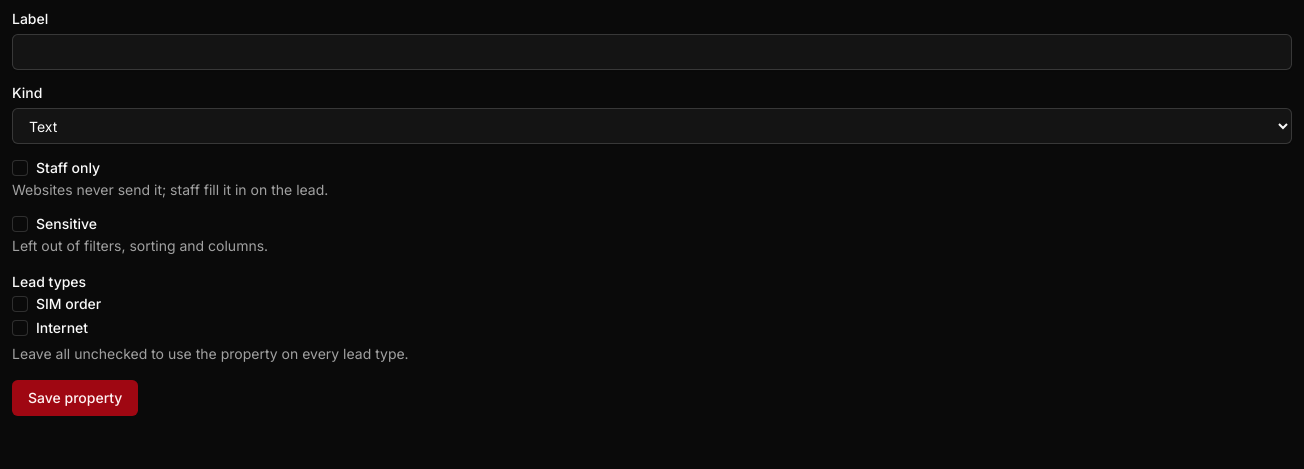
Test: PropertyEditor when adding › shows the reason a save was refused and keeps the form
In the field labelled "Label": (652, 52) [12, 34, 1292, 70], type "Referral"
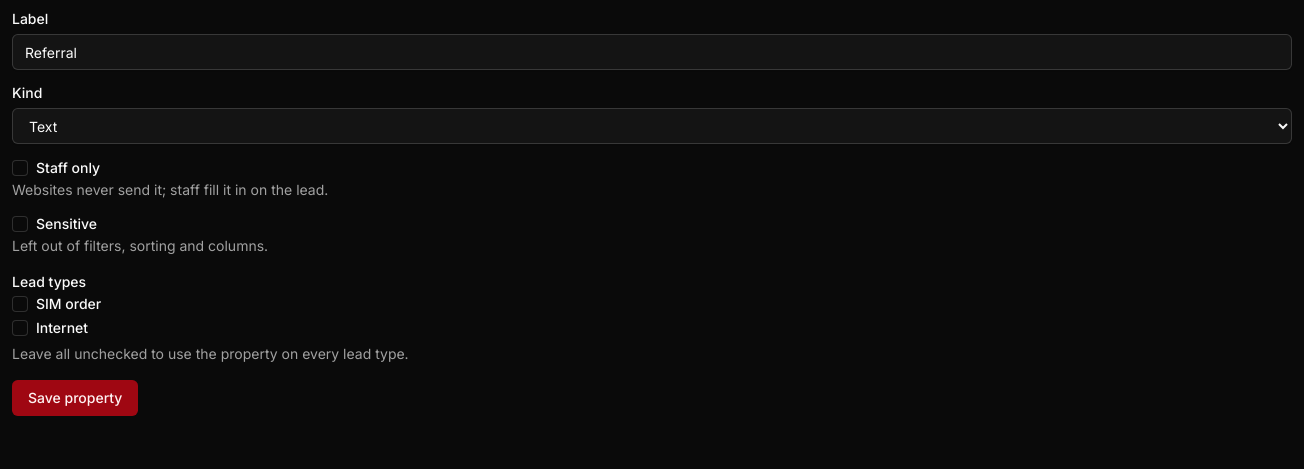
Click the button "Save property": (75, 398) [12, 380, 138, 416]
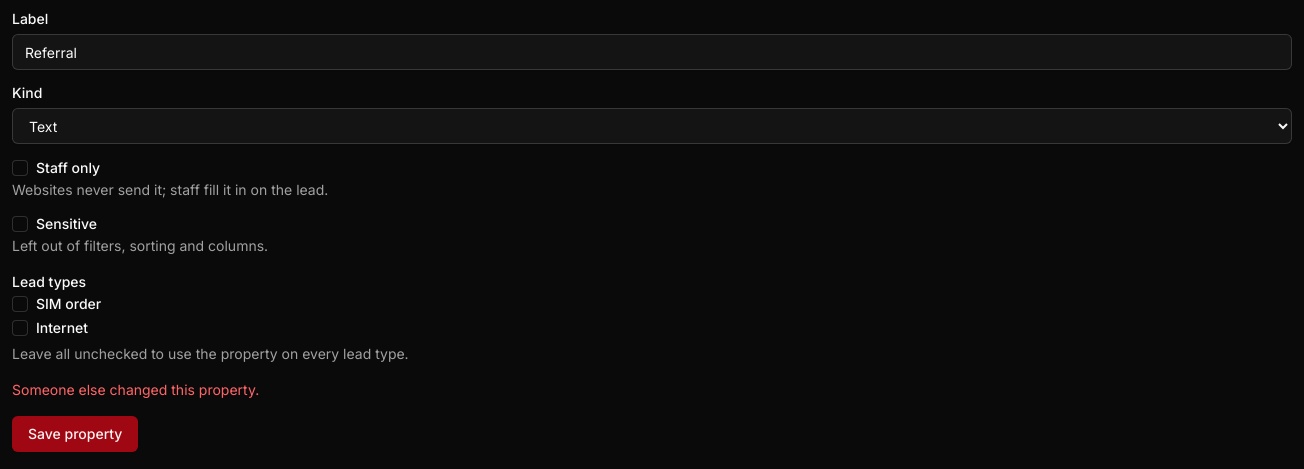
Check: the message reads "Someone else changed this property.", box [12, 381, 259, 398]
